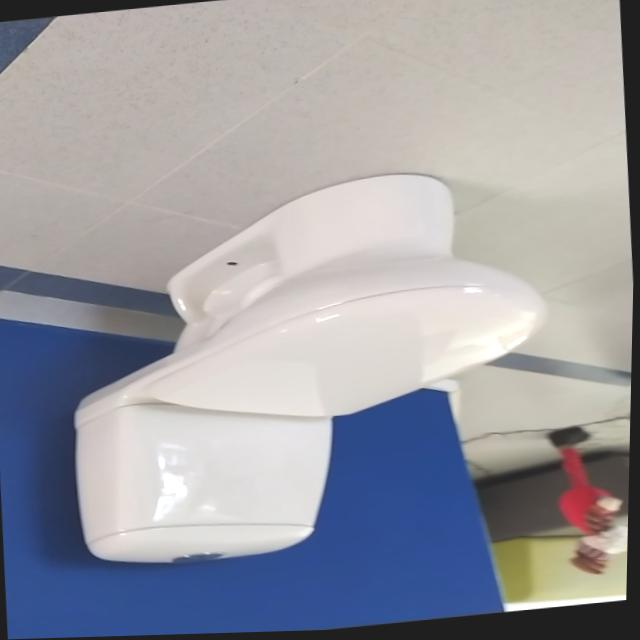toilet: (56, 161, 567, 576)
